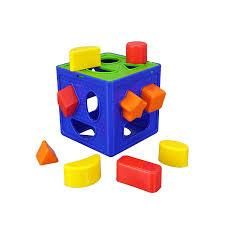cube: (56, 52, 161, 157)
